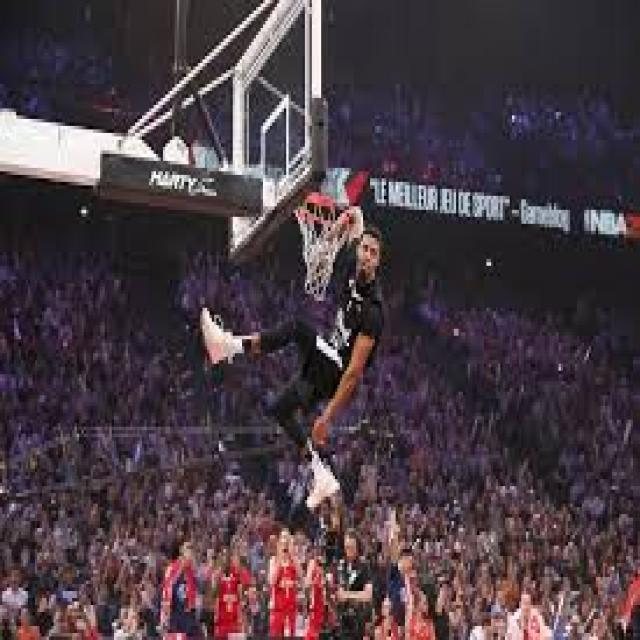rim: (308, 252, 330, 287)
